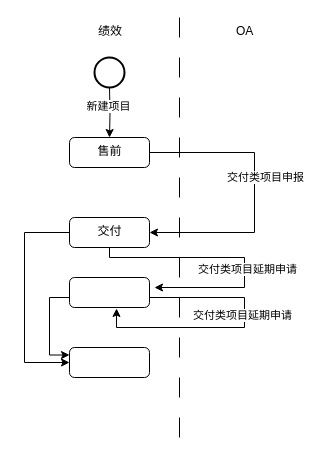
This 321x475 diagram has some shape labels left out. Each missing label, with the centre of its shape:
延期: point 109,292
结项: point 109,362
